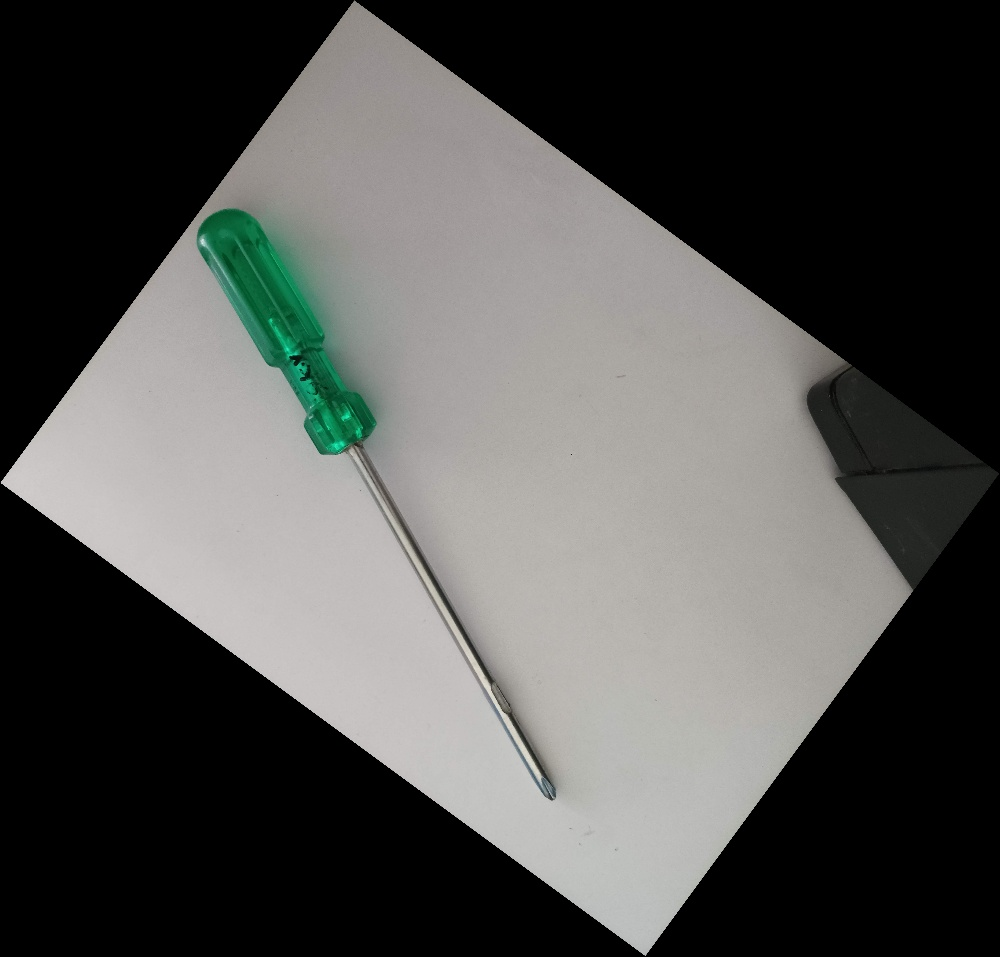screwdriver: (193, 206, 560, 805)
